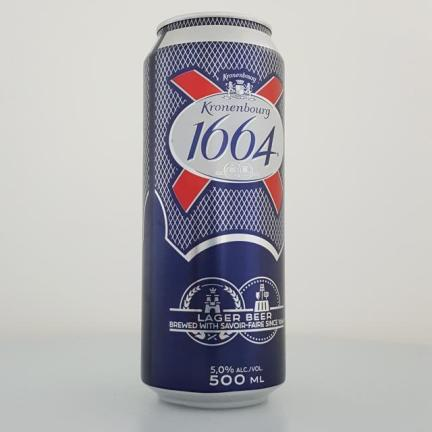can: (142, 14, 285, 408)
